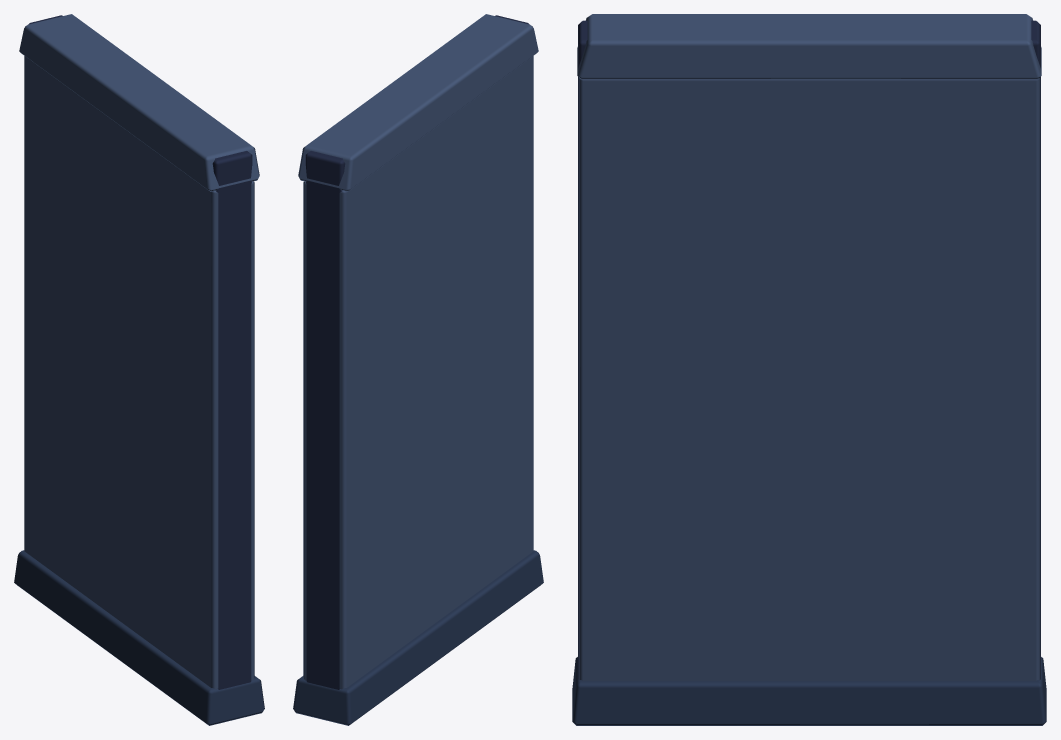
The model's file is wall_slate_34_420_260.glb.
The picture shows the model from 3 angles, left to right: view 1: azimuth 30°, elevation 25°; view 2: azimuth 150°, elevation 25°; view 3: azimuth 270°, elevation 25°; orthographic projection. The views are drawn at different scales.
Parts seen in each view (by area): view 1: wall_slate_34_420_260; view 2: wall_slate_34_420_260; view 3: wall_slate_34_420_260.
Part boxes in pixels (x1,y1,x2,y2): wall_slate_34_420_260: (14,14,264,725); wall_slate_34_420_260: (293,14,543,725); wall_slate_34_420_260: (572,14,1046,725).
Size of the model in its own units: 0.4582 by 4.2 by 2.64.
